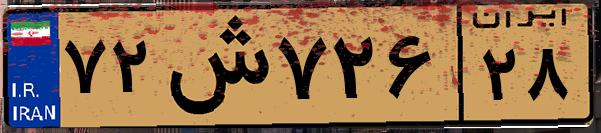2: (330, 28, 385, 110), (475, 38, 525, 113), (110, 28, 158, 98)
6: (385, 28, 445, 110)
7: (270, 28, 330, 110), (57, 26, 110, 100)
8: (525, 38, 570, 115)
ش: (158, 12, 270, 120)
